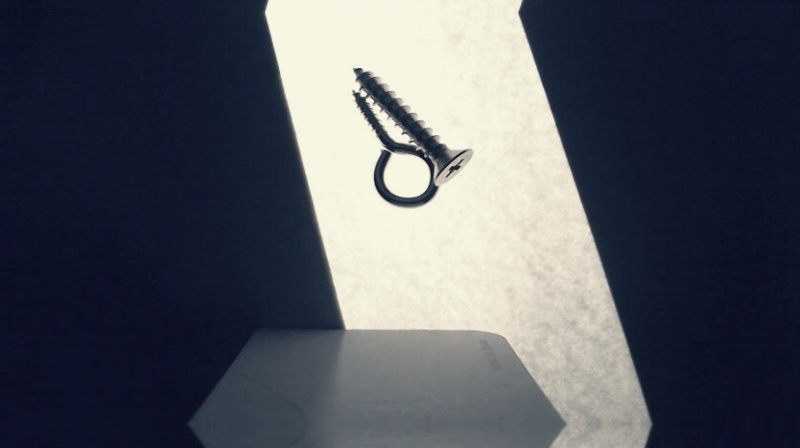O001: (350, 89, 440, 209)
S001: (352, 67, 474, 186)
